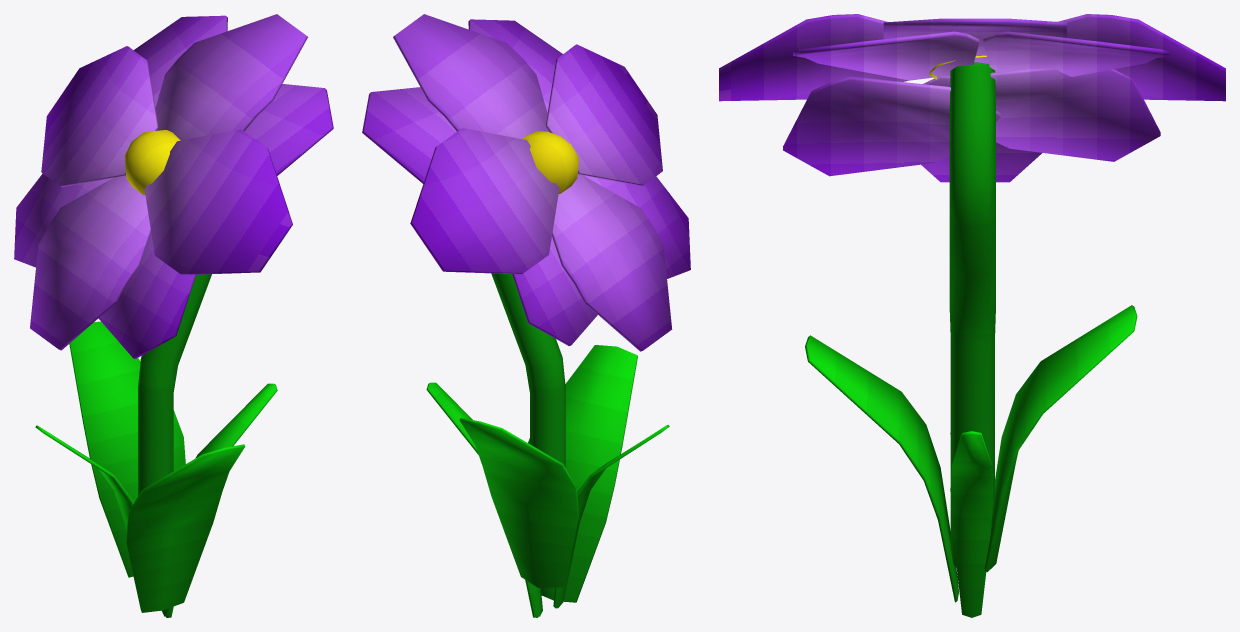
Rendered from flower_night.fbx.
The picture shows the model from 3 angles, left to right: view 1: azimuth 30°, elevation 25°; view 2: azimuth 150°, elevation 25°; view 3: azimuth 270°, elevation 25°; orthographic projection. The views are drawn at different scales.
Parts seen in each view (by area): view 1: Cylinder.002; view 2: Cylinder.002; view 3: Cylinder.002.
Boxes of the visible parts, x1,y1,x2,y2 form: Cylinder.002: [14, 14, 333, 617]; Cylinder.002: [362, 14, 690, 617]; Cylinder.002: [719, 14, 1225, 617].
Bounding box in the file's own units: 63.78 × 132 × 90.38.
